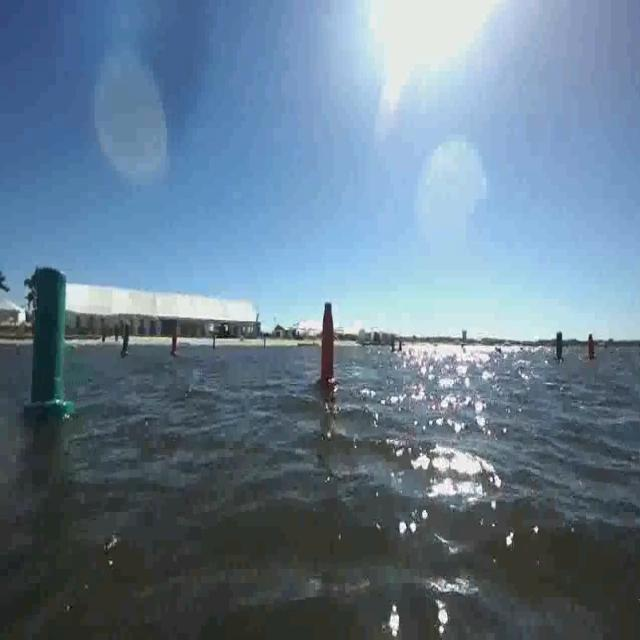green-column-buoy: (27, 266, 74, 419), (118, 322, 134, 359), (554, 332, 566, 363)
red-column-buoy: (317, 299, 338, 389), (587, 335, 598, 363), (171, 332, 181, 358)
